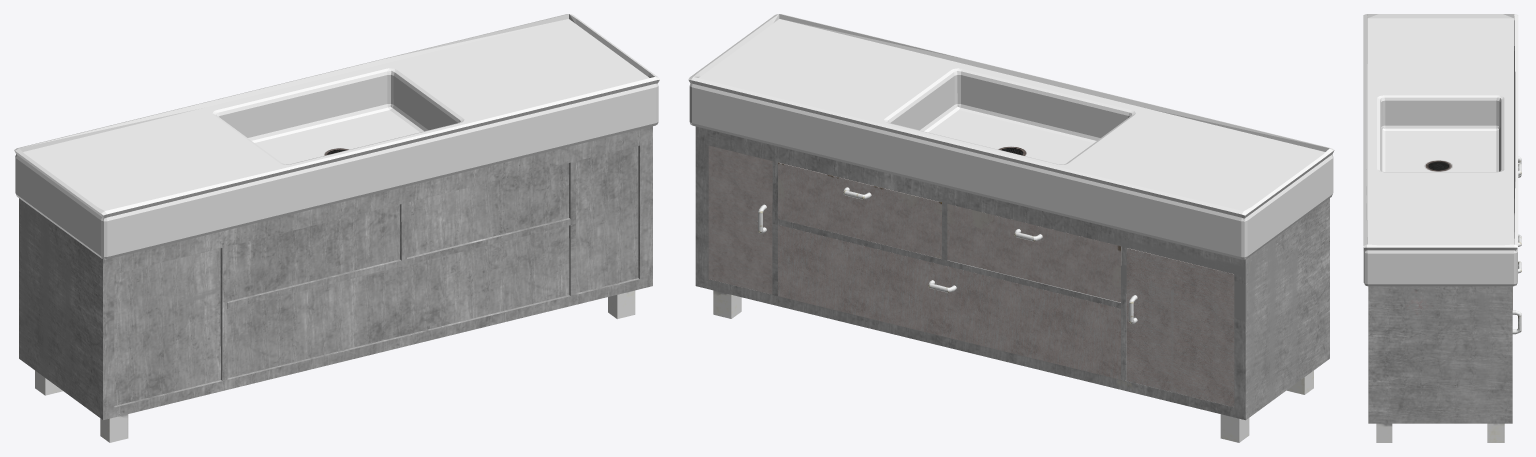
The model's file is Pia_Texture.fbx.
3 views of the same model, side by side, from view 1: azimuth 30°, elevation 25°; view 2: azimuth 150°, elevation 25°; view 3: azimuth 270°, elevation 25° (orthographic). The views are drawn at different scales.
Visible parts, largest first — view 1: GabineteCozinha, Pia; view 2: Pia, GabineteCozinha, Porta04, Porta05, Porta03, Porta02, Porta01; view 3: Pia, GabineteCozinha.
Part boxes in pixels (bbox=[...]): GabineteCozinha: bbox=[19, 126, 652, 442]; Pia: bbox=[14, 14, 659, 259]; Pia: bbox=[688, 14, 1334, 259]; GabineteCozinha: bbox=[695, 126, 1329, 442]; Porta04: bbox=[778, 225, 1120, 379]; Porta05: bbox=[1126, 248, 1234, 407]; Porta03: bbox=[947, 204, 1121, 302]; Porta02: bbox=[778, 162, 941, 258]; Porta01: bbox=[708, 145, 772, 294]; Pia: bbox=[1363, 14, 1518, 286]; GabineteCozinha: bbox=[1368, 286, 1512, 442].
Bounding box in the file's own units: 26.79 × 10.93 × 7.68.
